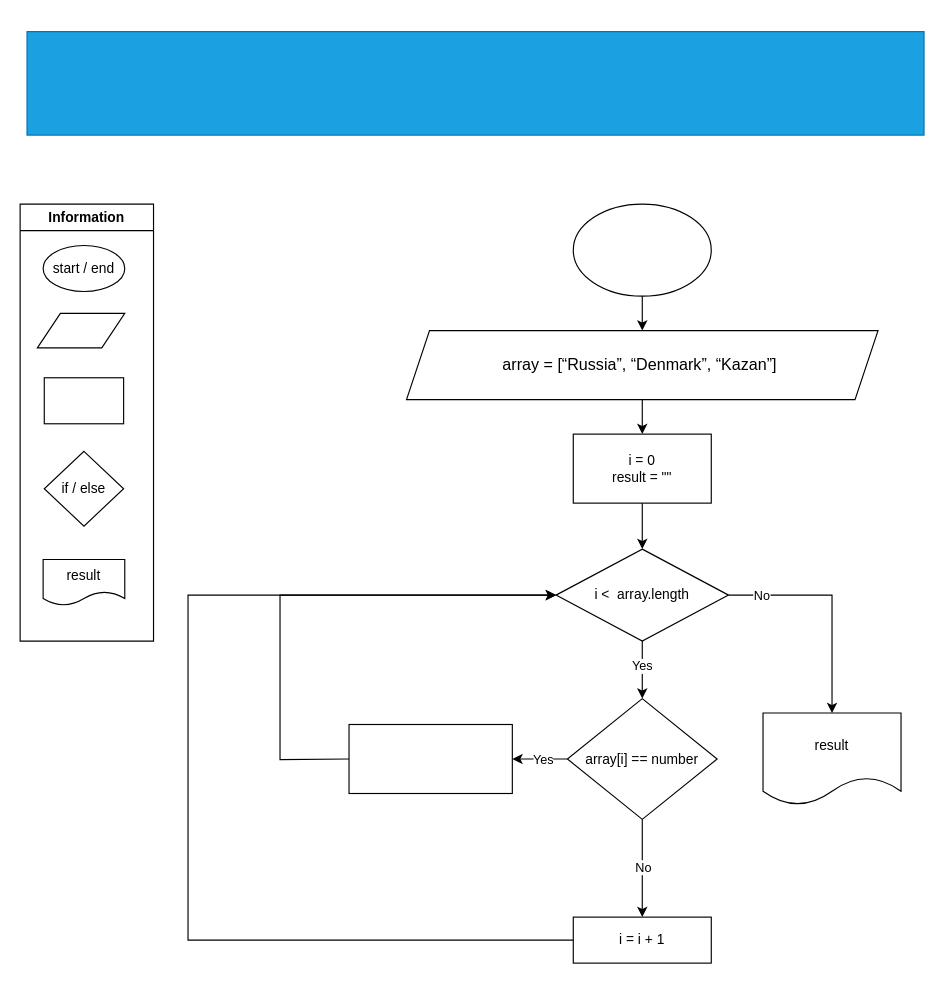
This 944x983 diagram has some shape labels left out. The centre of each missing label's shape, as x and y in pixels:
data input: point 80,330
process: point 83,400
result = result + array[i] i = i + 1: point 430,758
Start: point 641,249
Итоговое домашнее задание №:3 [“Russia”, “Denmark”, “Kazan”] → []: point 475,82
